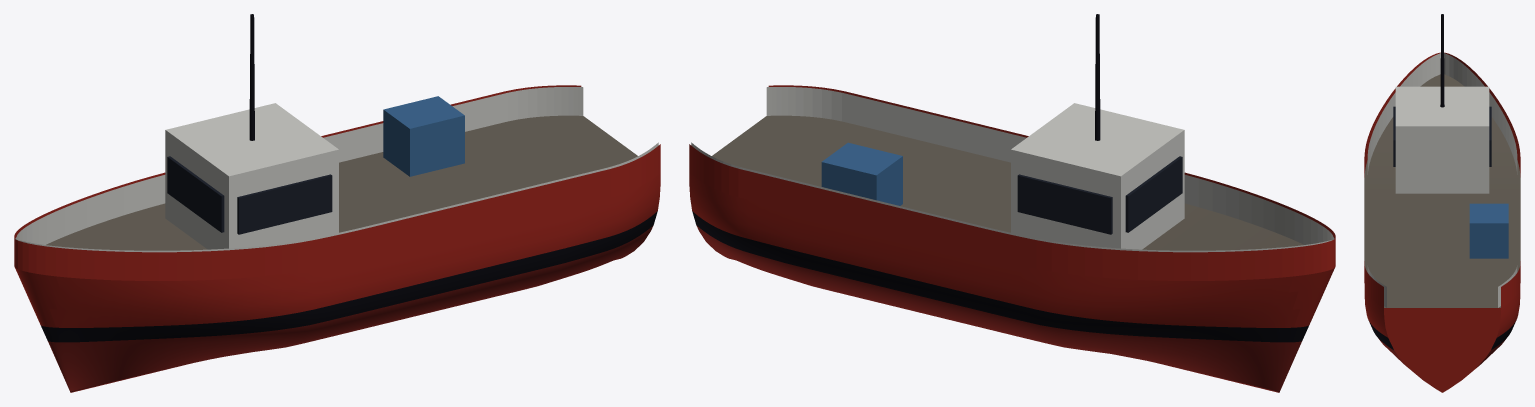
Rendered from fishing_boat.glb.
3 views of the same model, side by side, from view 1: azimuth 30°, elevation 25°; view 2: azimuth 150°, elevation 25°; view 3: azimuth 270°, elevation 25° (orthographic). The views are drawn at different scales.
Visible parts, largest first — view 1: fishing_boat; view 2: fishing_boat; view 3: fishing_boat.
Part boxes in pixels (x1,y1,x2,y2): fishing_boat: [14, 14, 660, 392]; fishing_boat: [689, 14, 1335, 392]; fishing_boat: [1364, 14, 1520, 392].
Size of the model in its own units: 13.2 by 6.95 by 4.
